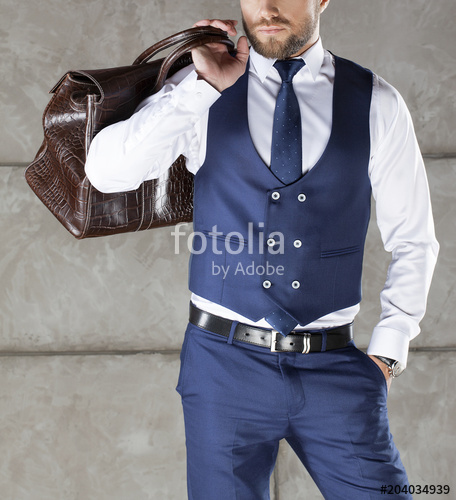F_belt: (180, 305, 356, 358)
F_dress pants: (167, 345, 411, 495)
F_shirt: (93, 44, 436, 353)
F_tie: (269, 59, 305, 175)
